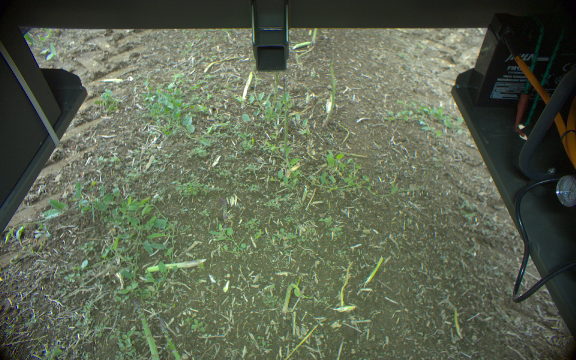aspa: (132, 301, 161, 360), (144, 255, 207, 273), (156, 321, 184, 360), (327, 57, 340, 118), (282, 76, 290, 173), (236, 70, 257, 106), (280, 282, 301, 312), (290, 37, 314, 52), (307, 28, 322, 46)
